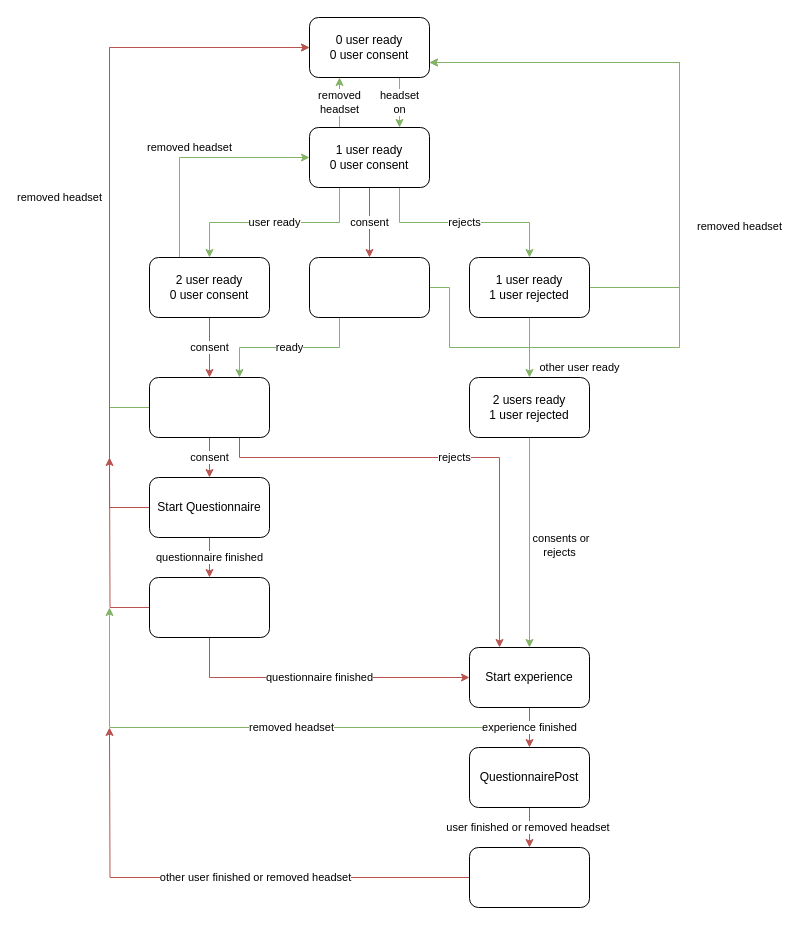
The diagram is 799 pixels wide and 925 high, and some of its shapes have lost their labels. The centre of each missing label's shape, as x and y in pixels:
1 user finished: the point at 209,607
1 user ready 1 user consent: the point at 369,287
2 users ready 1 user consent: the point at 209,407
waiting for other Questionnaire end: the point at 529,877
